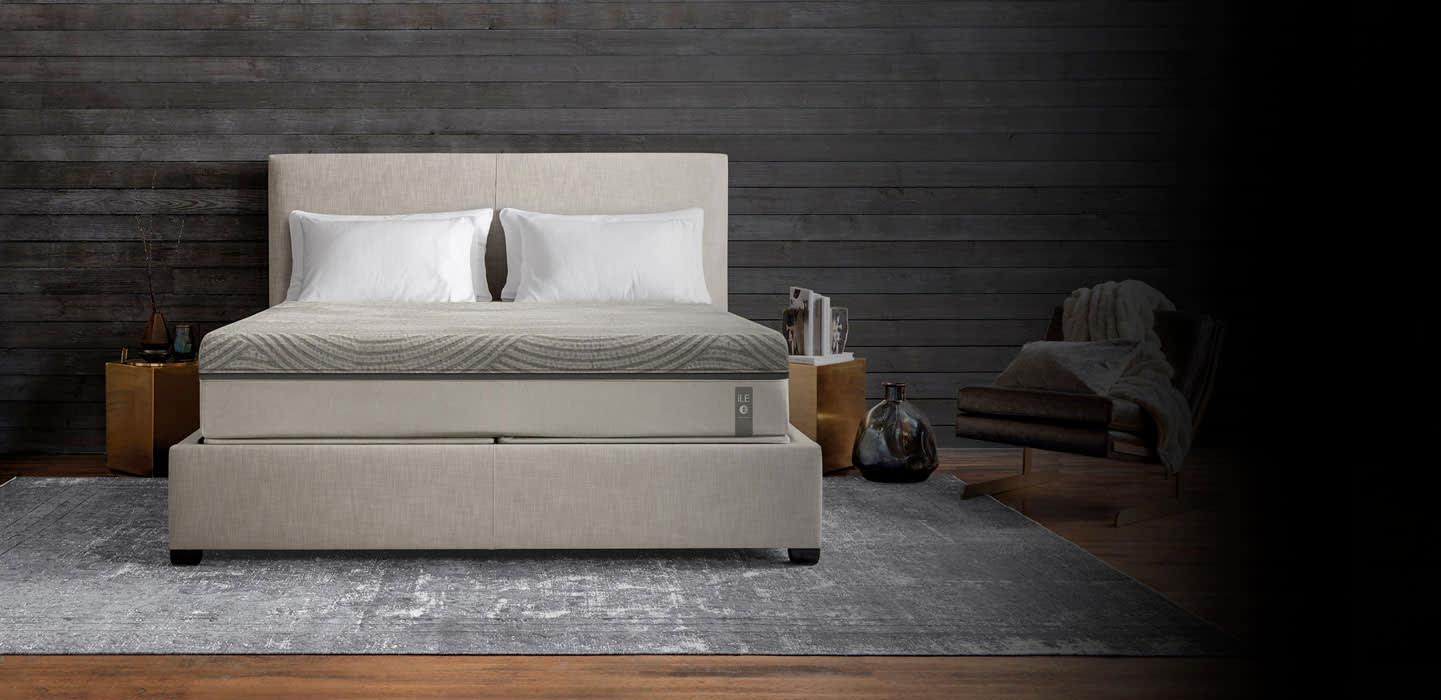bed: (165, 136, 875, 589)
